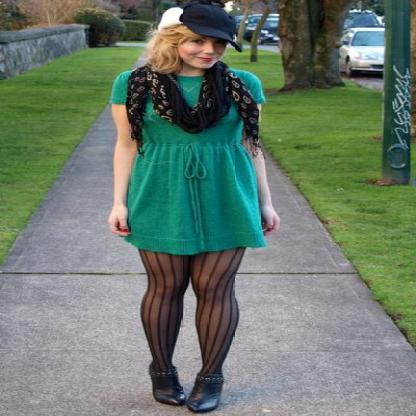dress: (109, 68, 267, 254)
hat: (178, 14, 237, 40)
shoe: (153, 378, 222, 413)
